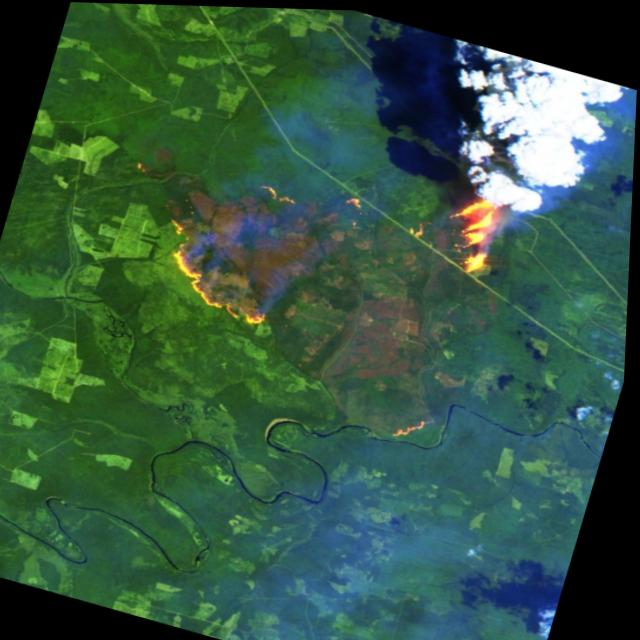fire: (138, 104, 526, 390)
